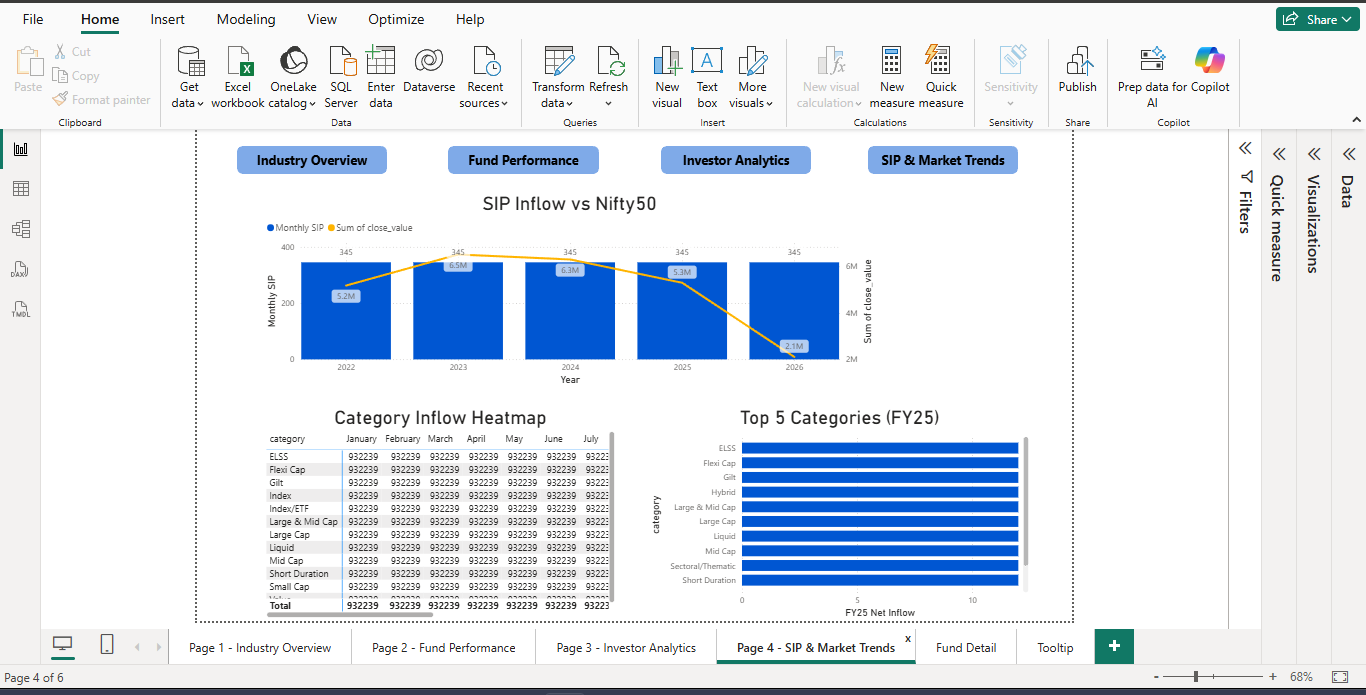

This screenshot's page, from the dashboard's own definition file:
{"tool":"powerbi","page":{"name":"Page 4 - SIP & Market Trends","canvas":[1280,720],"ordinal":3},"visuals":[{"type":"lineClusteredColumnComboChart","title":" SIP Inflow vs Nifty50","fields":{"Y":["Measures .Monthly SIP"],"Category":["10_benchmark_indices.date.Variation.Date Hierarchy.Year"],"Y2":["Sum(10_benchmark_indices.close_value)"]},"box":[96.6,92.2,897.1,288.3],"z":0},{"type":"pivotTable","title":"Category Inflow Heatmap","fields":{"Rows":["scheme_performance_cleaned.category"],"Columns":["08_investor_transactions.transaction_date.Variation.Date Hierarchy.Month"],"Values":["Sum(05_category_inflows.net_inflow_crore)"]},"box":[96.6,405.4,519.5,314.6],"z":1000},{"type":"clusteredBarChart","title":"Top 5 Categories (FY25)","fields":{"Y":["CountNonNull(05_category_inflows.FinancialYear)"],"Category":["05_category_inflows.category"]},"box":[658.5,405.4,563.4,314.6],"z":2000},{"type":"actionButton","title":"Industry Overview","box":[58.5,24.9,219.5,41],"z":3000},{"type":"actionButton","box":[367.3,24.9,221,41],"z":4000},{"type":"actionButton","box":[679,24.9,219.5,41],"z":5000},{"type":"actionButton","box":[982,24.9,219.5,41],"z":6000}]}

Visuals, with their boxes on the page's 1280x720 design canvas (x1, y1, x2, y2). These are canvas units, not pixel positions in the 1366x695 screenshot, which may show the page scaled, cropped or inside an application window:
" SIP Inflow vs Nifty50" lineClusteredColumnComboChart: 97 92 994 380
"Category Inflow Heatmap" pivotTable: 97 405 616 720
"Top 5 Categories (FY25)" clusteredBarChart: 658 405 1222 720
"Industry Overview" actionButton: 58 25 278 66
actionButton: 367 25 588 66
actionButton: 679 25 898 66
actionButton: 982 25 1202 66
